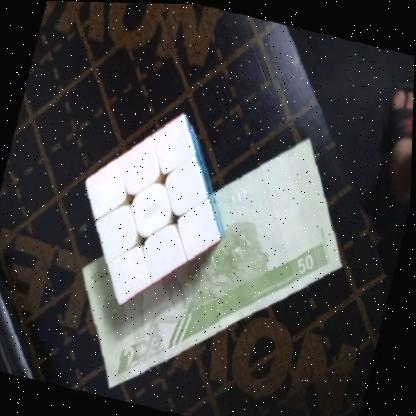fifty-back-vef: (52, 85, 376, 416)
